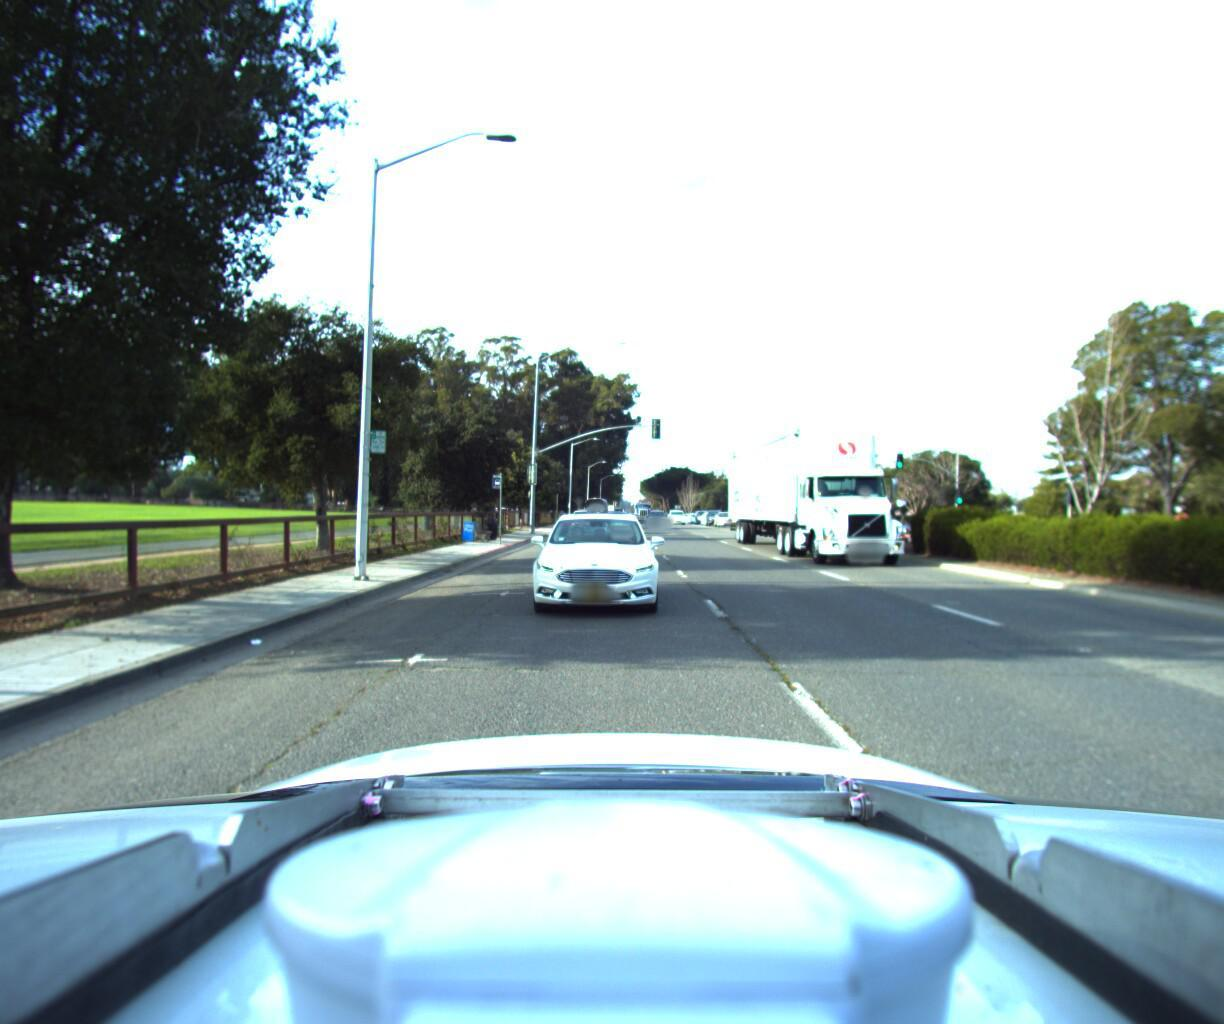car: (527, 505, 666, 619), (712, 504, 738, 520), (570, 503, 591, 521)
truck: (725, 403, 952, 566)
